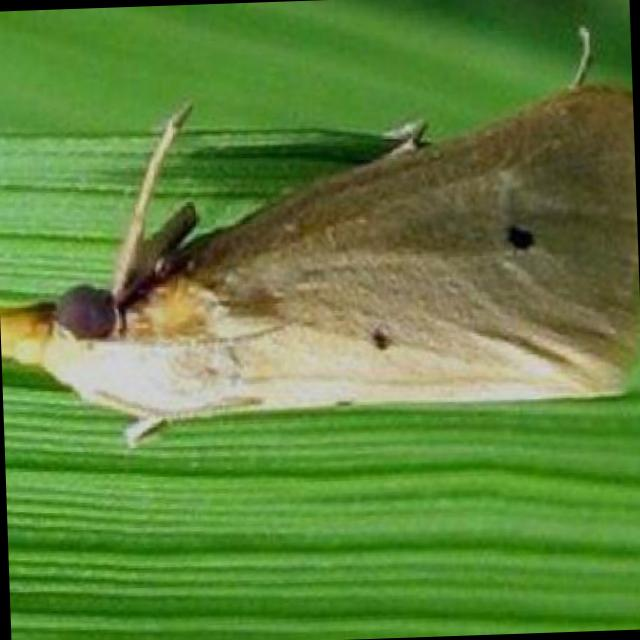stem-borer: (0, 73, 640, 438)
